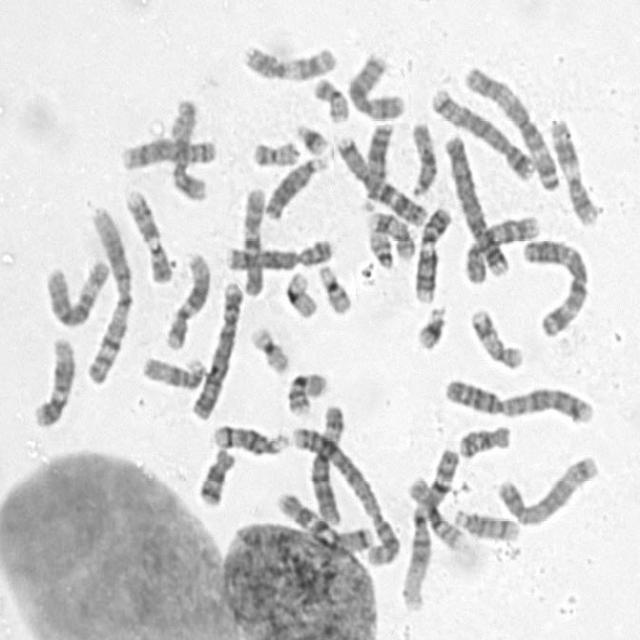A1: (398, 442, 462, 613), (81, 201, 136, 386)
A2: (288, 422, 402, 568), (441, 372, 598, 426)
A3: (462, 62, 562, 191), (520, 232, 592, 338)
B4: (441, 129, 512, 279), (187, 276, 245, 420)
B5: (427, 83, 537, 181), (493, 450, 601, 528)
C10: (462, 210, 542, 284), (238, 183, 268, 298)
C11: (546, 112, 602, 227), (240, 39, 338, 83)
C12: (161, 247, 212, 351), (29, 332, 77, 428)
C6: (42, 255, 112, 330), (306, 398, 346, 528)
C7: (334, 130, 431, 227), (274, 486, 374, 554)
C8: (221, 232, 335, 272), (117, 132, 220, 172)
C9: (121, 183, 174, 284), (411, 202, 453, 305)
D13: (260, 150, 329, 222), (360, 119, 396, 213)
D14: (208, 418, 289, 458), (449, 504, 523, 544)
D15: (138, 351, 209, 392), (407, 117, 440, 199)
E16: (402, 469, 468, 552), (282, 367, 330, 418)
E17: (466, 303, 524, 371), (363, 206, 416, 262)
E18: (195, 443, 238, 507), (455, 420, 513, 460)
F19: (245, 321, 292, 375), (282, 266, 320, 320)
F20: (310, 72, 352, 124), (248, 135, 302, 168)
G21: (412, 299, 449, 352), (292, 118, 332, 157)
G22: (314, 260, 355, 316), (364, 223, 396, 270)
X: (344, 50, 408, 121)
